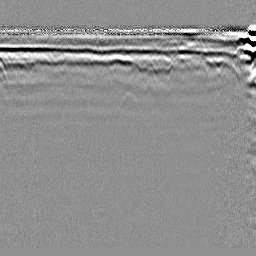cavity: (119, 90, 139, 108)
